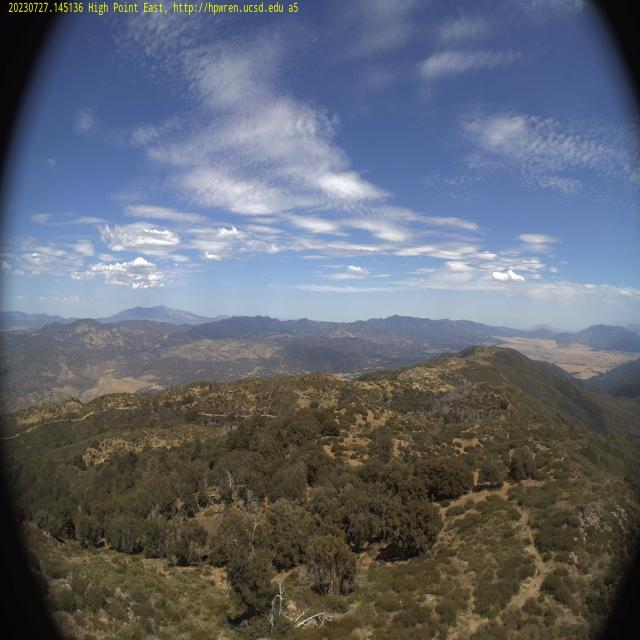smoke: (20, 276, 56, 338)
